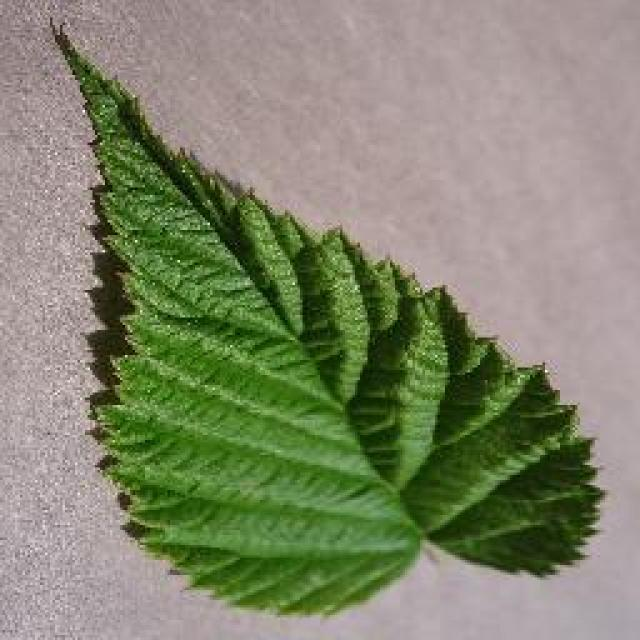Ras_healthy: (81, 128, 529, 579)
